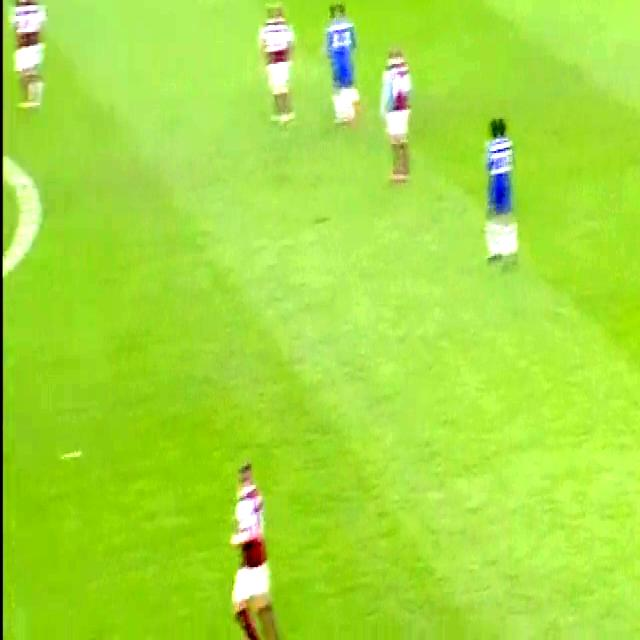soccer-player: (223, 436, 297, 636), (469, 98, 523, 274), (378, 32, 427, 189), (255, 0, 304, 135), (316, 0, 362, 135), (5, 0, 52, 121)
